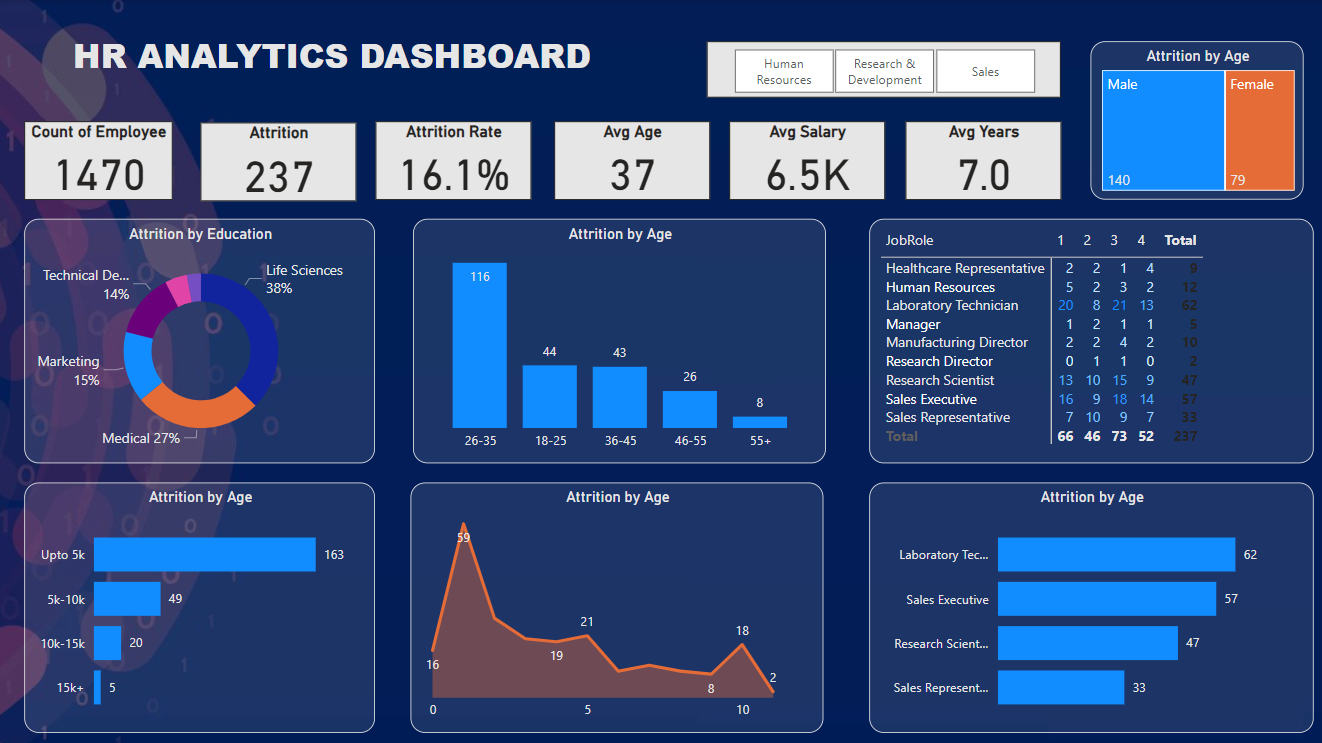

What the dashboard file says about the page in this screenshot:
{"tool":"powerbi","page":{"name":"Page 1","canvas":[1280,720],"ordinal":0},"visuals":[{"type":"card","title":"Overall Employees","fields":{"Values":["CountNonNull(HR_Analytics.EmpID)"]},"box":[25.7,117.1,142.9,75.7],"z":0},{"type":"card","title":"Attrition Rate","fields":{"Values":["HR_Analytics.AttritionRate"]},"box":[364.3,117.1,150,75.7],"z":1000},{"type":"card","title":"Attrition","fields":{"Values":["Sum(HR_Analytics.AttritionCount)"]},"box":[195.7,118.6,150,75.7],"z":2000},{"type":"card","title":"Avg Age","fields":{"Values":["Avg(HR_Analytics.Age)"]},"box":[537.1,117.1,150,75.7],"z":3000},{"type":"card","title":"Years At Company","fields":{"Values":["Avg(HR_Analytics.YearsAtCompany)"]},"box":[875.7,117.1,150,75.7],"z":4000},{"type":"card","title":"Avg Salary","fields":{"Values":["Avg(HR_Analytics.MonthlyIncome)"]},"box":[705.7,117.1,150,75.7],"z":5000},{"type":"donutChart","title":"Attrition by Education","fields":{"Category":["HR_Analytics.EducationField"],"Y":["Sum(HR_Analytics.AttritionCount)"]},"box":[25.7,211.4,338.6,235.7],"z":6000},{"type":"columnChart","title":"Attrition by Age","fields":{"Y":["Sum(HR_Analytics.AttritionCount)"],"Category":["HR_Analytics.AgeGroup"]},"box":[400,211.4,398.6,235.7],"z":7000},{"type":"pivotTable","fields":{"Rows":["HR_Analytics.JobRole"],"Columns":["HR_Analytics.JobSatisfaction"],"Values":["Sum(HR_Analytics.AttritionCount)"]},"box":[840,211.4,428.6,235.7],"z":8000},{"type":"barChart","title":"Attrition by Salary Slab","fields":{"Category":["HR_Analytics.SalarySlab"],"Y":["Sum(HR_Analytics.AttritionCount)"]},"box":[25.7,465.7,338.6,241.4],"z":9000},{"type":"barChart","title":"Attrition by Job Role","fields":{"Category":["HR_Analytics.JobRole"],"Y":["Sum(HR_Analytics.AttritionCount)"]},"box":[840,465.7,428.6,241.4],"z":10000},{"type":"areaChart","title":"Attrition by Years At Company","fields":{"Category":["HR_Analytics.YearsAtCompany"],"Y":["Sum(HR_Analytics.AttritionCount)"]},"box":[398.6,465.7,398.6,241.4],"z":11000},{"type":"treemap","title":"Attrition by Gender","fields":{"Group":["HR_Analytics.Gender"],"Values":["Sum(HR_Analytics.AttritionCount)"]},"box":[1054.3,40,205.7,152.9],"z":12000},{"type":"slicer","fields":{"Values":["HR_Analytics.Department"]},"box":[684.3,40,341.4,54.3],"z":13000},{"type":"textbox","box":[45.7,25.7,552.9,68.6],"z":14000}]}

Visuals, with their boxes in screenshot pixels (x1, y1, x2, y2), scaled from the page's 1280x720 canvas onto the 1322x743 screenshot:
"Overall Employees" card: l=27, t=121, r=174, b=199
"Attrition Rate" card: l=376, t=121, r=531, b=199
"Attrition" card: l=202, t=122, r=357, b=201
"Avg Age" card: l=555, t=121, r=710, b=199
"Years At Company" card: l=904, t=121, r=1059, b=199
"Avg Salary" card: l=729, t=121, r=884, b=199
"Attrition by Education" donutChart: l=27, t=218, r=376, b=461
"Attrition by Age" columnChart: l=413, t=218, r=825, b=461
pivotTable - HR_Analytics.JobRole x HR_Analytics.JobSatisfaction: l=868, t=218, r=1310, b=461
"Attrition by Salary Slab" barChart: l=27, t=481, r=376, b=730
"Attrition by Job Role" barChart: l=868, t=481, r=1310, b=730
"Attrition by Years At Company" areaChart: l=412, t=481, r=823, b=730
"Attrition by Gender" treemap: l=1089, t=41, r=1301, b=199
slicer - HR_Analytics.Department: l=707, t=41, r=1059, b=97
textbox: l=47, t=27, r=618, b=97
